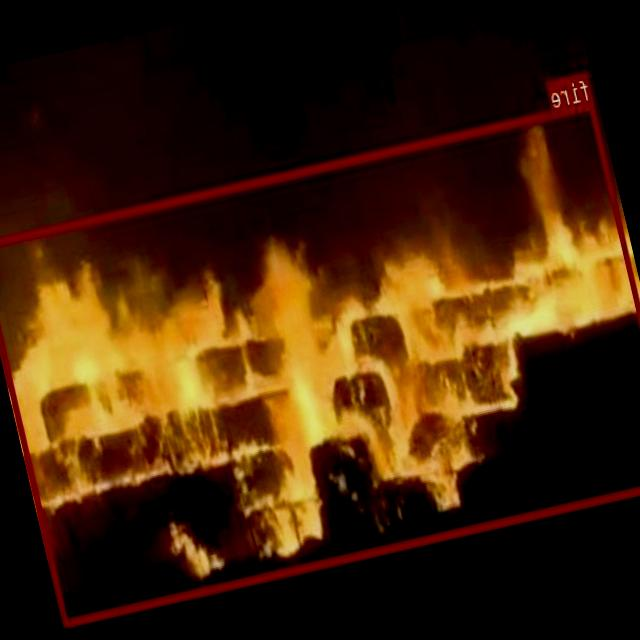fire: (0, 98, 640, 625)
